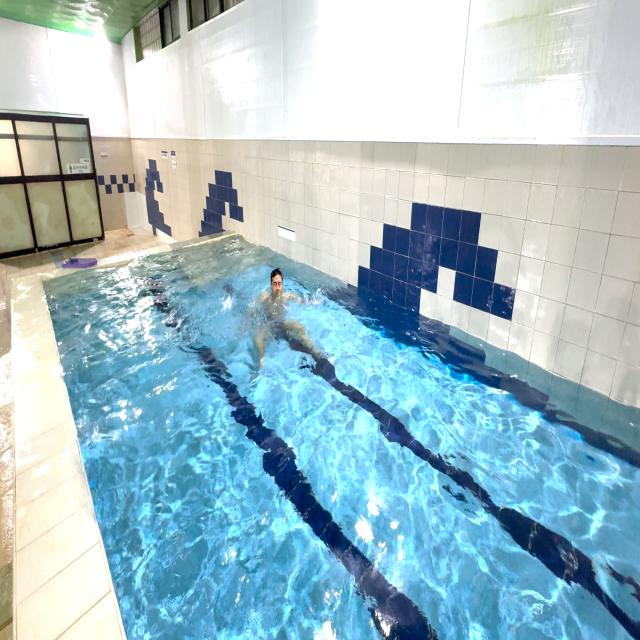Drowning: (238, 261, 322, 362)
